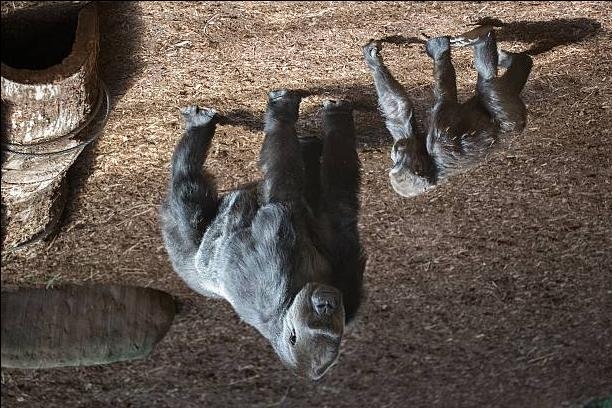gorille_Autres: (148, 77, 382, 398), (352, 21, 578, 208)
